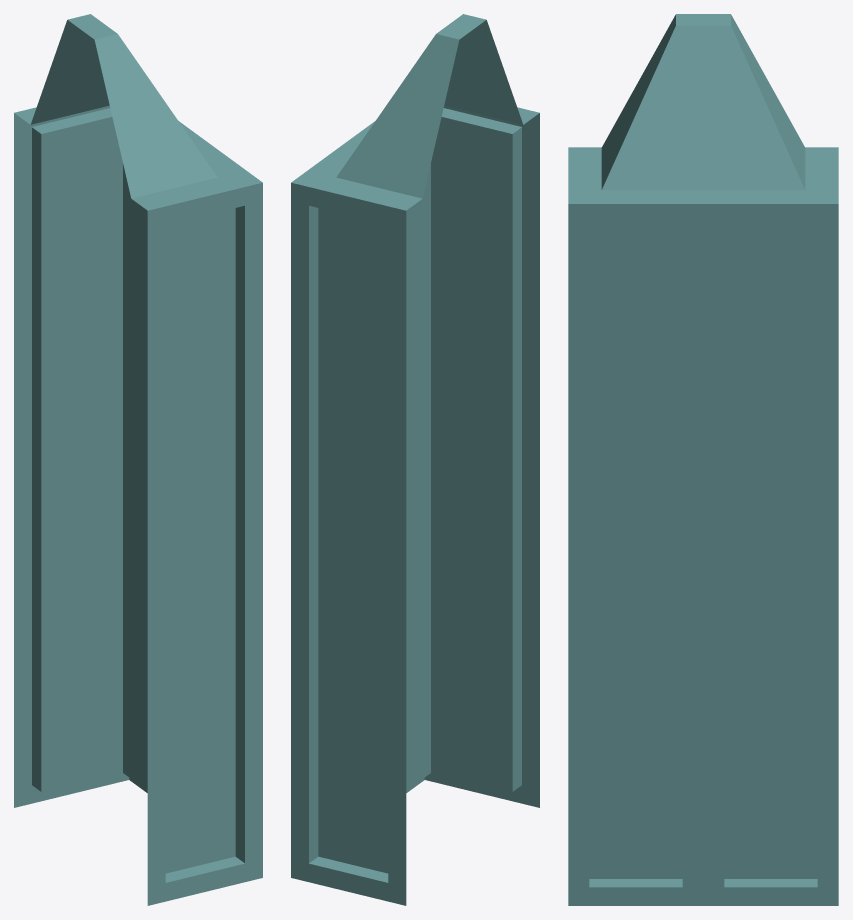
Rendered from P_MitadEdificio.fbx.
The picture shows the model from 3 angles, left to right: view 1: azimuth 30°, elevation 25°; view 2: azimuth 150°, elevation 25°; view 3: azimuth 270°, elevation 25°; orthographic projection.
Parts seen in each view (by area): view 1: pCube3; view 2: pCube3; view 3: pCube3.
Part boxes in pixels (x1,y1,x2,y2): pCube3: (14, 14, 262, 905); pCube3: (291, 14, 539, 905); pCube3: (568, 14, 838, 905).
Size of the model in its own units: 361 by 2475 by 725.
